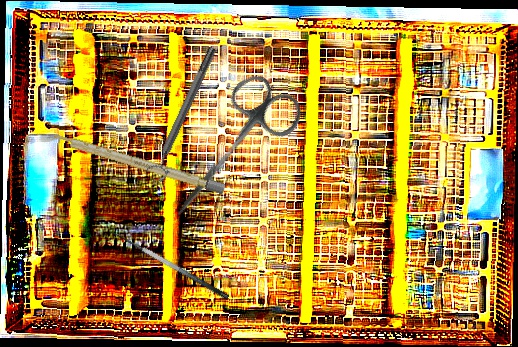Fixation Ring: (142, 43, 225, 184)
Iris Scissors: (149, 65, 310, 241)
Scalpel Handle: (46, 130, 227, 195)
Spatula Surgical: (104, 224, 231, 311)
